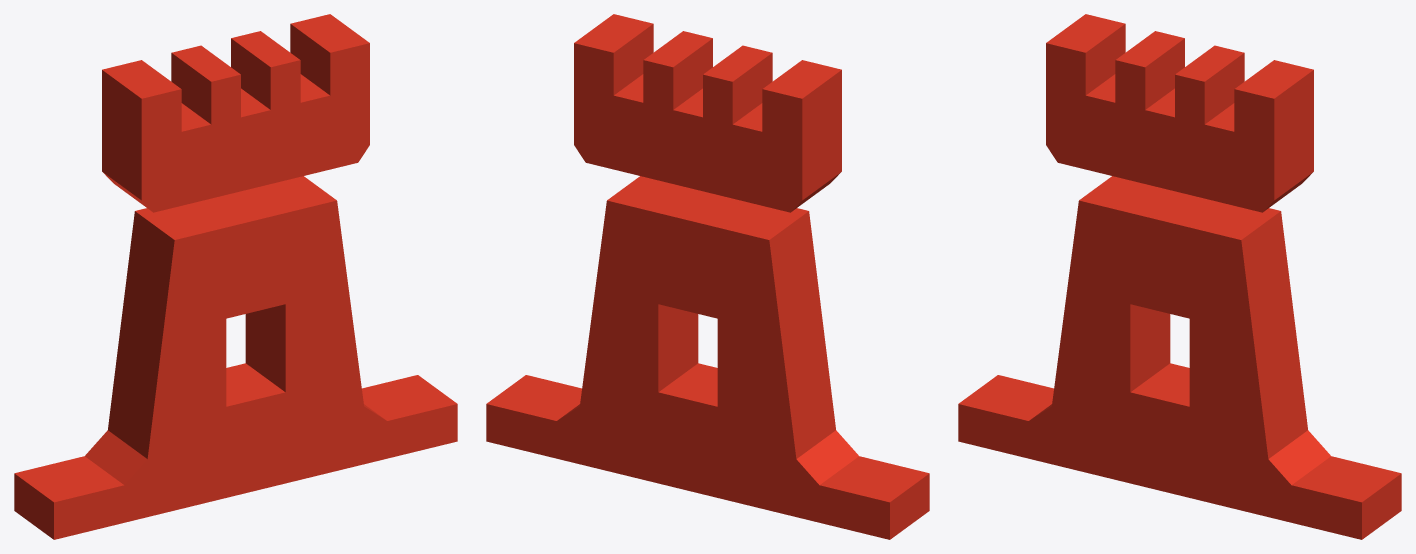
File: Icon_Castle_06.fbx
3 views of the same model, side by side, from view 1: azimuth 30°, elevation 25°; view 2: azimuth 150°, elevation 25°; view 3: azimuth 330°, elevation 25° (orthographic).
Parts seen in each view (by area): view 1: Icon_Castle_06; view 2: Icon_Castle_06; view 3: Icon_Castle_06.
Part boxes in pixels (<box>): Icon_Castle_06: <box>14,14,457,539</box>; Icon_Castle_06: <box>486,14,929,539</box>; Icon_Castle_06: <box>958,14,1401,539</box>.
Size of the model in its own units: 70.65 by 70.21 by 12.06.
